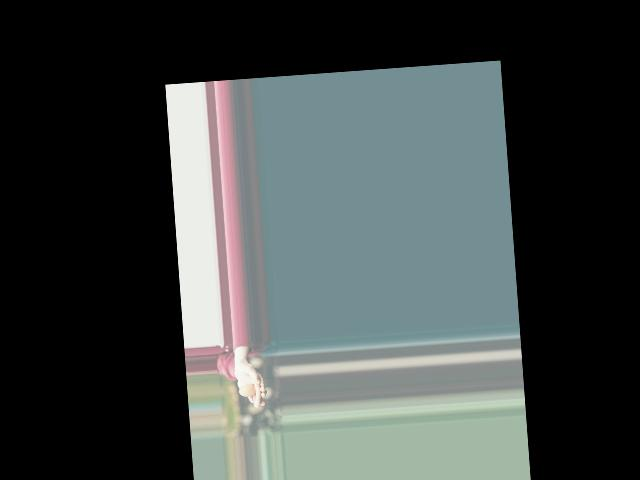egg: (238, 383, 255, 396)
